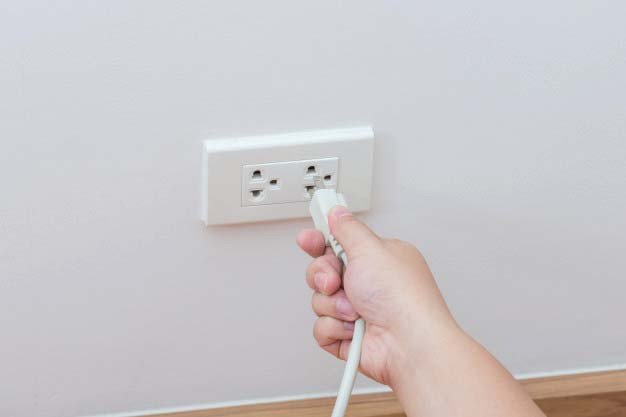Three_eye_plug: (185, 119, 397, 249)
